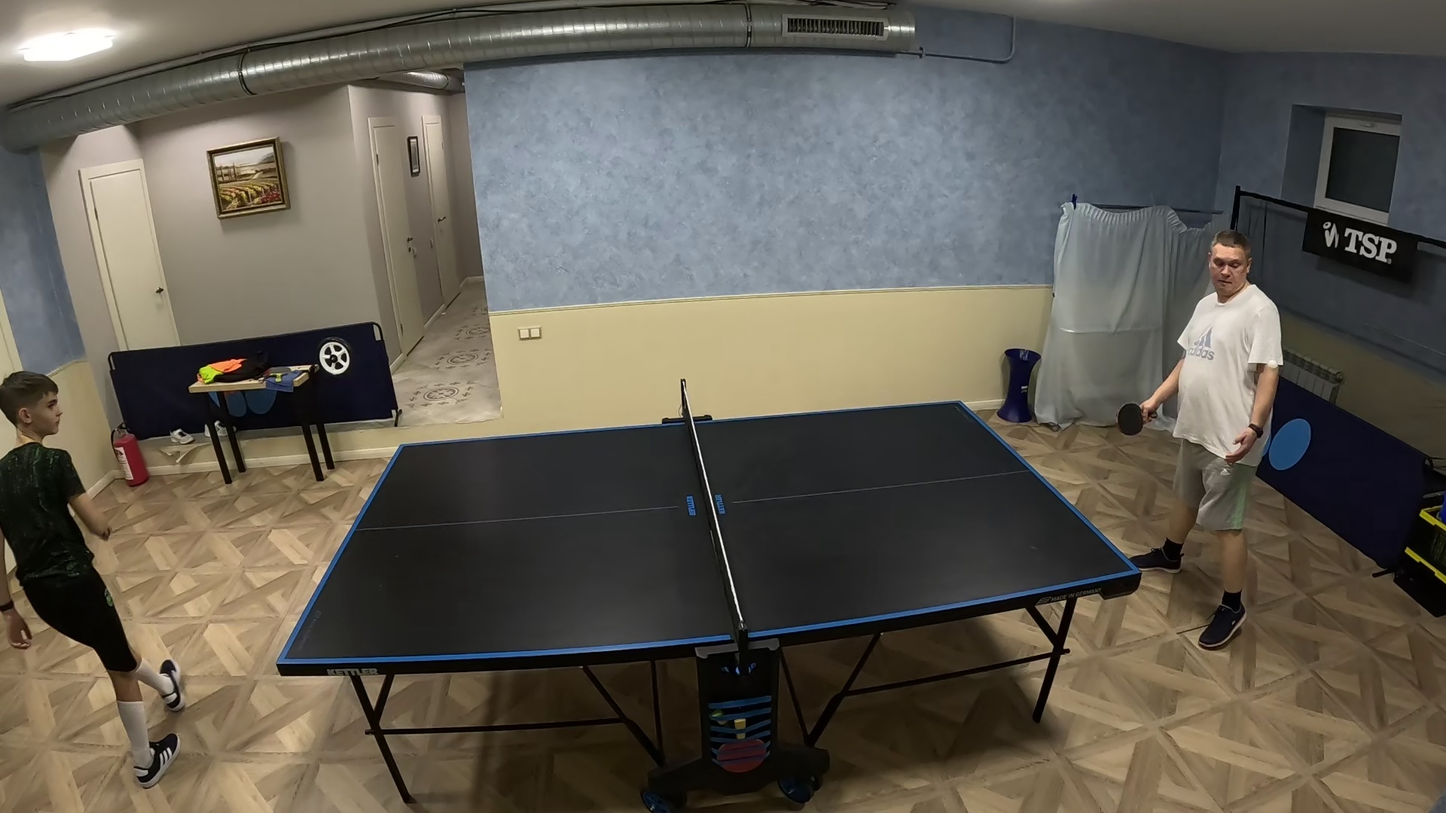Ball: (1267, 359, 1278, 368)
